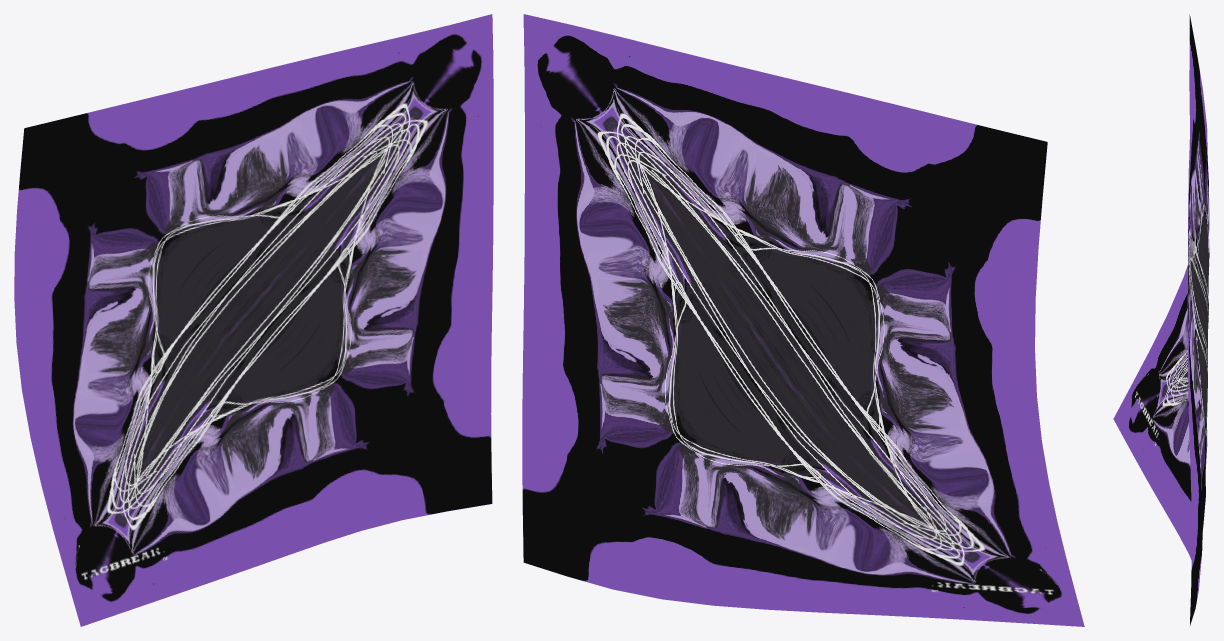
File: Thanos_Veil.glb
3 renders of one model, left to right at view 1: azimuth 30°, elevation 25°; view 2: azimuth 150°, elevation 25°; view 3: azimuth 270°, elevation 25°, orthographic. The views are drawn at different scales.
Visible parts, largest first — view 1: Plane; view 2: Plane; view 3: Plane.
Boxes of the visible parts, <box> form: Plane: <box>14,14,493,626</box>; Plane: <box>522,14,1084,626</box>; Plane: <box>1113,14,1209,626</box>.
Bounding box in the file's own units: 2 × 2 × 0.4172.
Materials: 1 (1 with a texture image).
